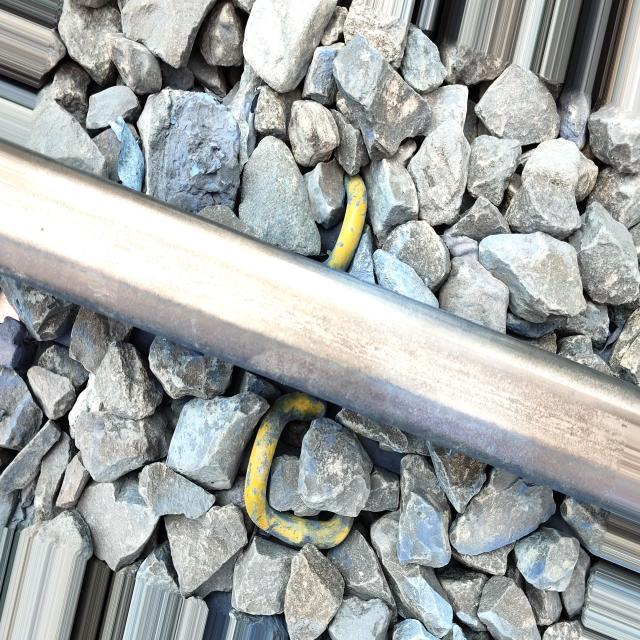Good Fasteners: (244, 392, 354, 549), (327, 175, 367, 271)
